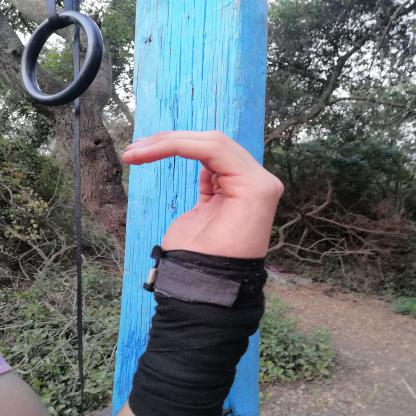HAA: (104, 118, 303, 280)
